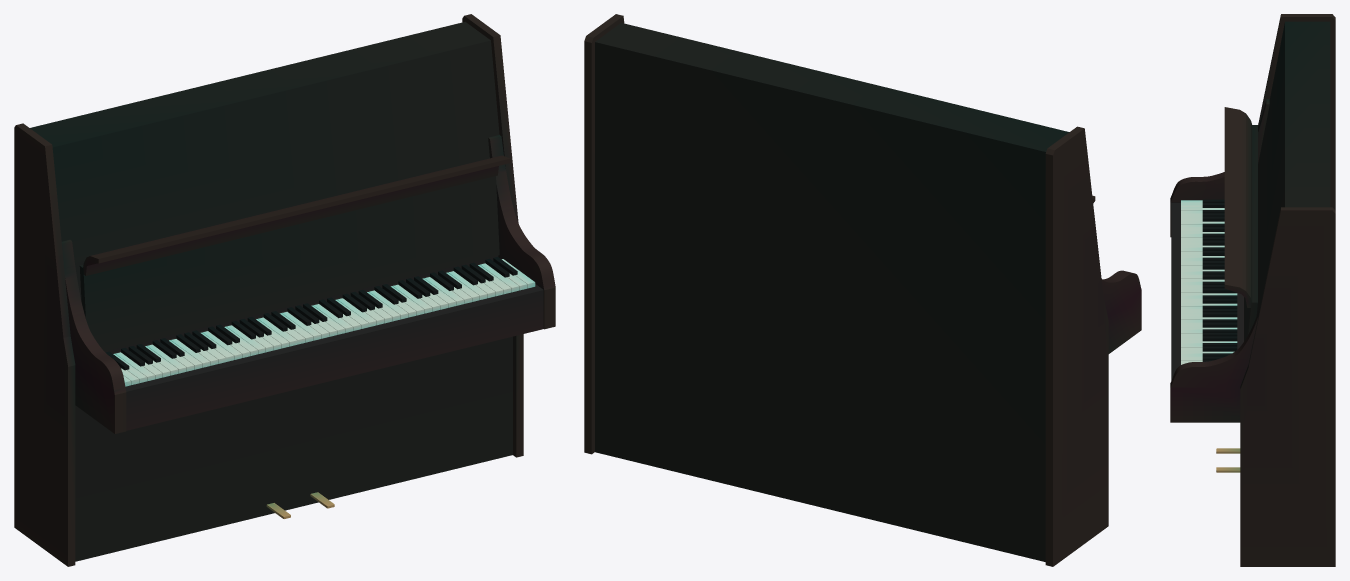
The picture shows the model from 3 angles, left to right: view 1: azimuth 30°, elevation 25°; view 2: azimuth 150°, elevation 25°; view 3: azimuth 270°, elevation 25°; orthographic projection. The views are drawn at different scales.
Visible parts, largest first — view 1: cabinet, key_bed, end, music_rail, end.001; view 2: cabinet, end, end.001, key_bed; view 3: end.001, cabinet, key_bed, music_rail, end.
Part boxes in pixels (x1,y1,x2,y2): cabinet: (30,21,512,561); key_bed: (61,135,555,433); end: (14,123,75,566); music_rail: (83,155,510,275); end.001: (462,14,523,457); cabinet: (595,22,1069,561); end: (1045,126,1108,566); end.001: (584,14,624,454); key_bed: (1101,270,1141,353); end.001: (1240,207,1335,566); cabinet: (1244,21,1330,341); key_bed: (1170,99,1269,422); music_rail: (1224,107,1252,307); end: (1258,14,1335,210).
Bounding box in the file's own units: 1.5 × 1.27 × 0.5331.
